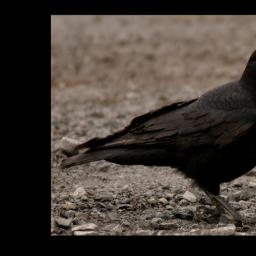Crow: (58, 43, 256, 227)
